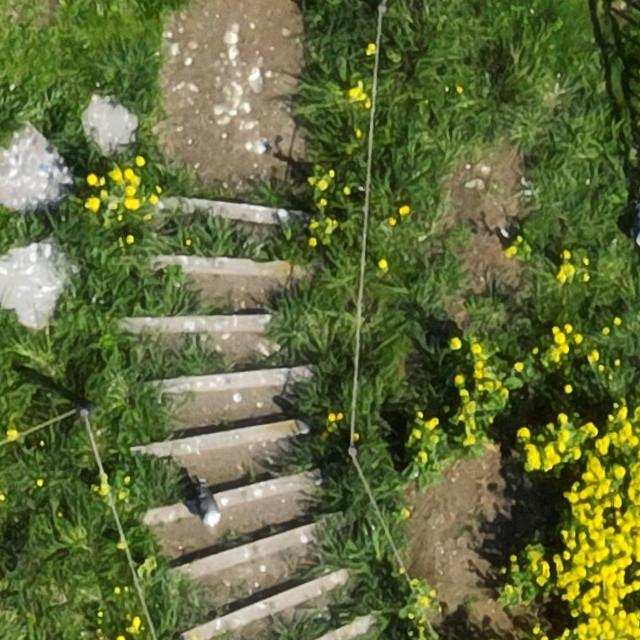umineko: (199, 493, 219, 526)
